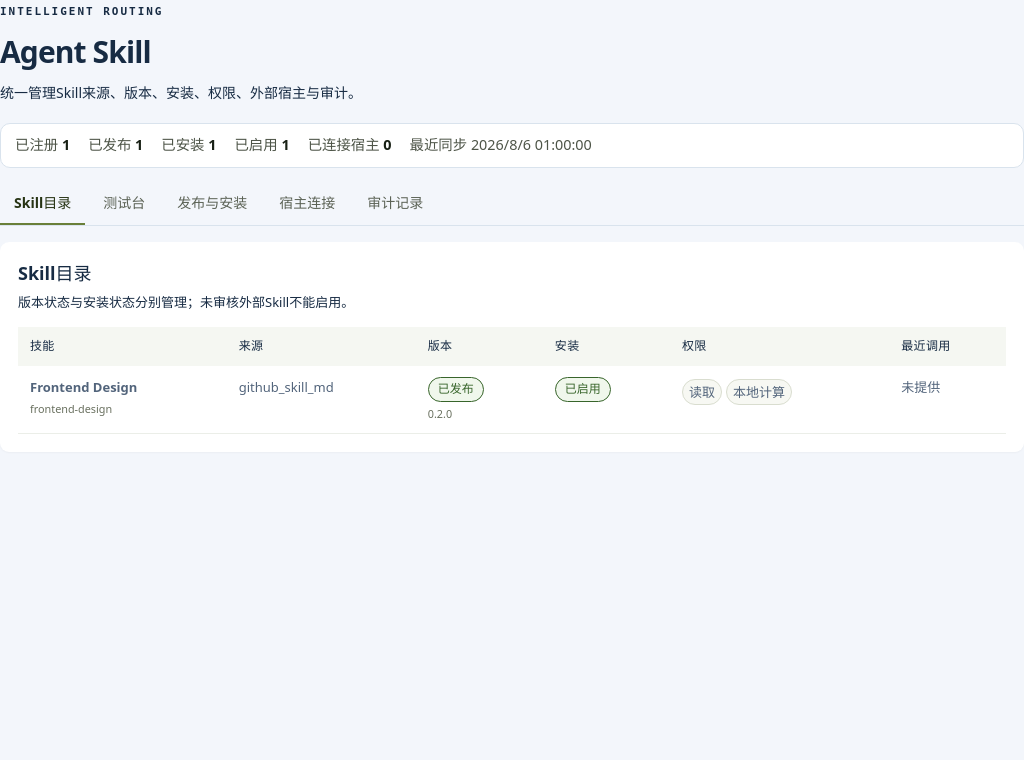
Agent Skill management UI › allows functional invocation and shows the business result with trace identifiers once
The width and height of the screenshot is (1024, 760).
Click the button "测试台" at (124, 204), box top-left (89, 182), bottom-right (159, 225)
(page scrolled)
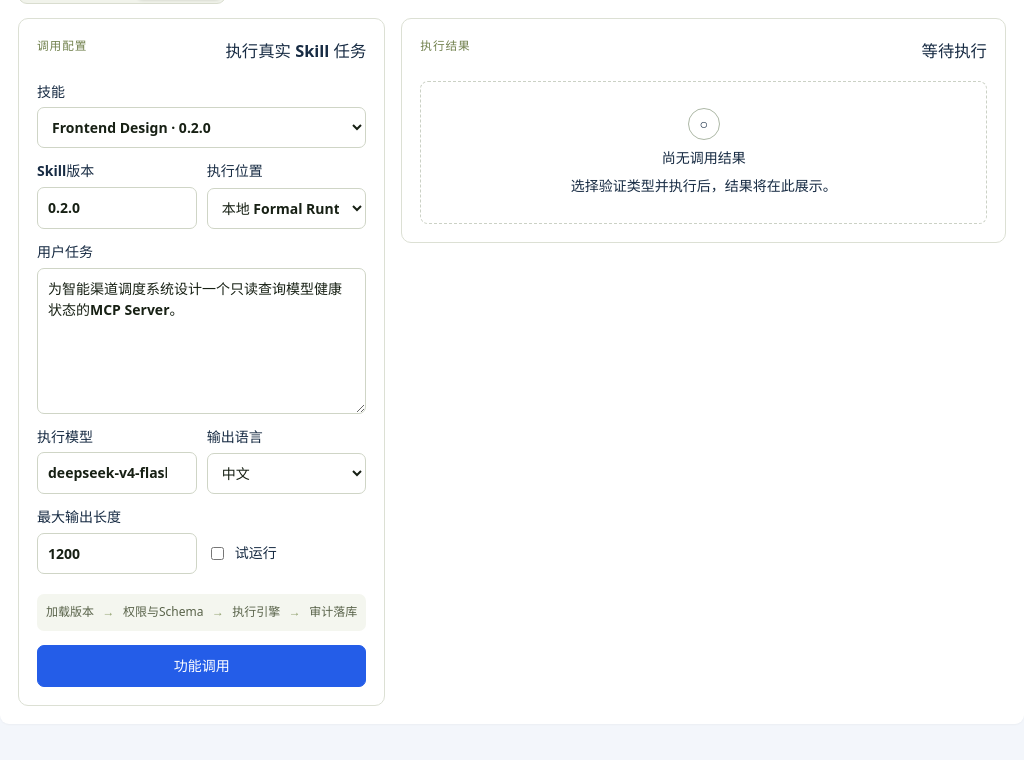
Now the button "功能调用" below "加载版本" is enabled
Click the button "功能调用" below "加载版本" at (202, 666), box top-left (37, 645), bottom-right (366, 687)
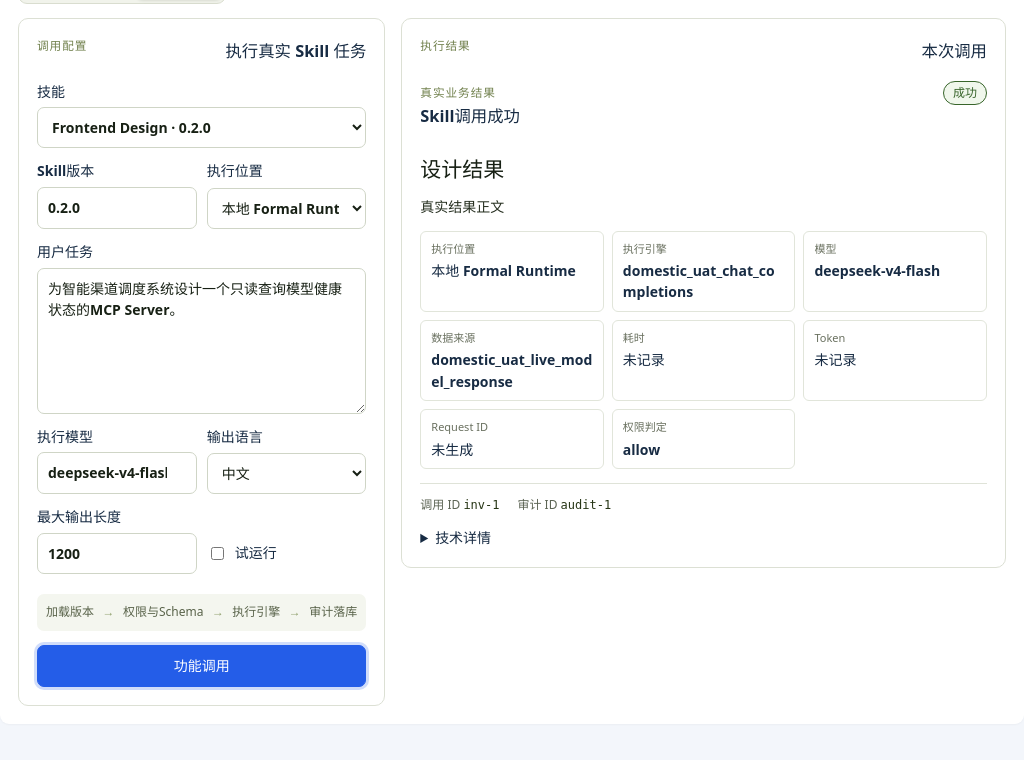
Now the text "真实结果正文" is shown, box top-left (420, 197), bottom-right (504, 216)
Now the text "inv-1" is shown, box top-left (463, 498), bottom-right (500, 512)
Now the text "audit-1" is shown, box top-left (561, 498), bottom-right (611, 512)
